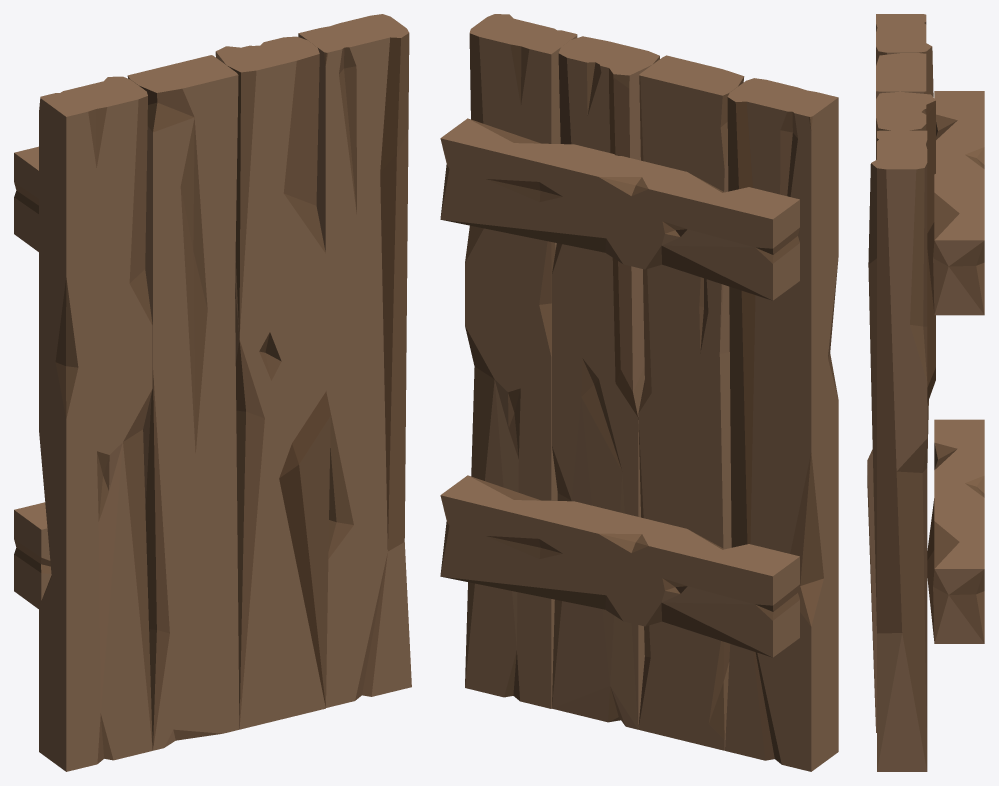
Rendered from mesh_plank_door.fbx.
The picture shows the model from 3 angles, left to right: view 1: azimuth 30°, elevation 25°; view 2: azimuth 150°, elevation 25°; view 3: azimuth 270°, elevation 25°; orthographic projection. The views are drawn at different scales.
Visible parts, largest first — view 1: mesh_plank_door; view 2: mesh_plank_door; view 3: mesh_plank_door.
Boxes of the visible parts, x1=… form: mesh_plank_door: x1=14, y1=14, x2=411, y2=771; mesh_plank_door: x1=440, y1=14, x2=838, y2=771; mesh_plank_door: x1=867, y1=14, x2=984, y2=771.
Size of the model in its own units: 0.7679 by 1.39 by 0.245.
